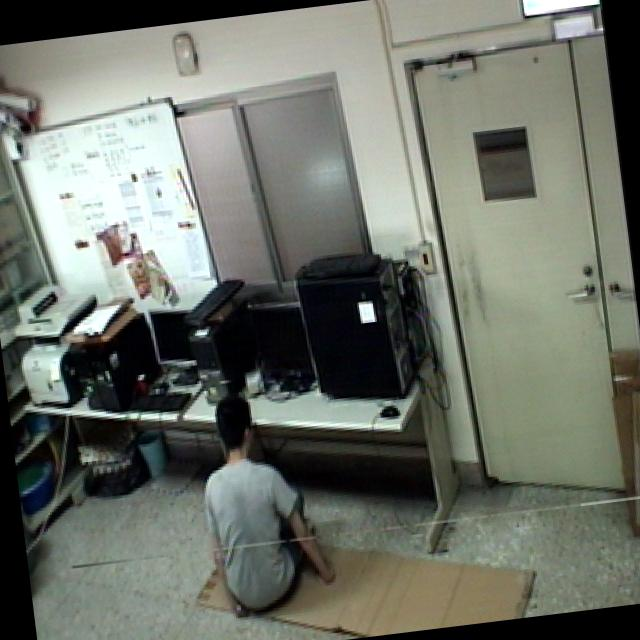sit: (178, 377, 344, 618)
